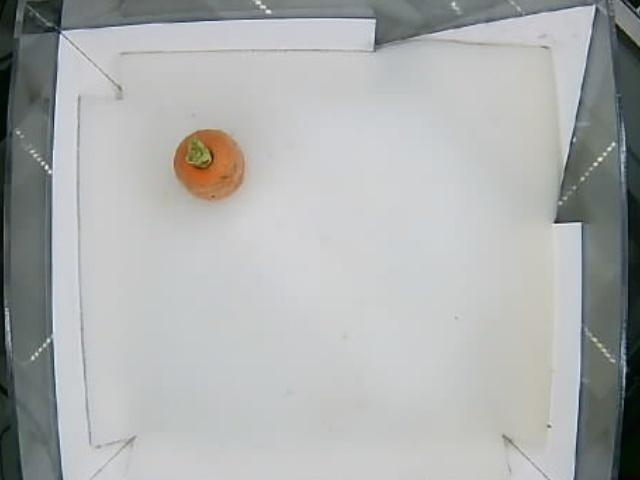Carrot: (174, 128, 246, 200)
